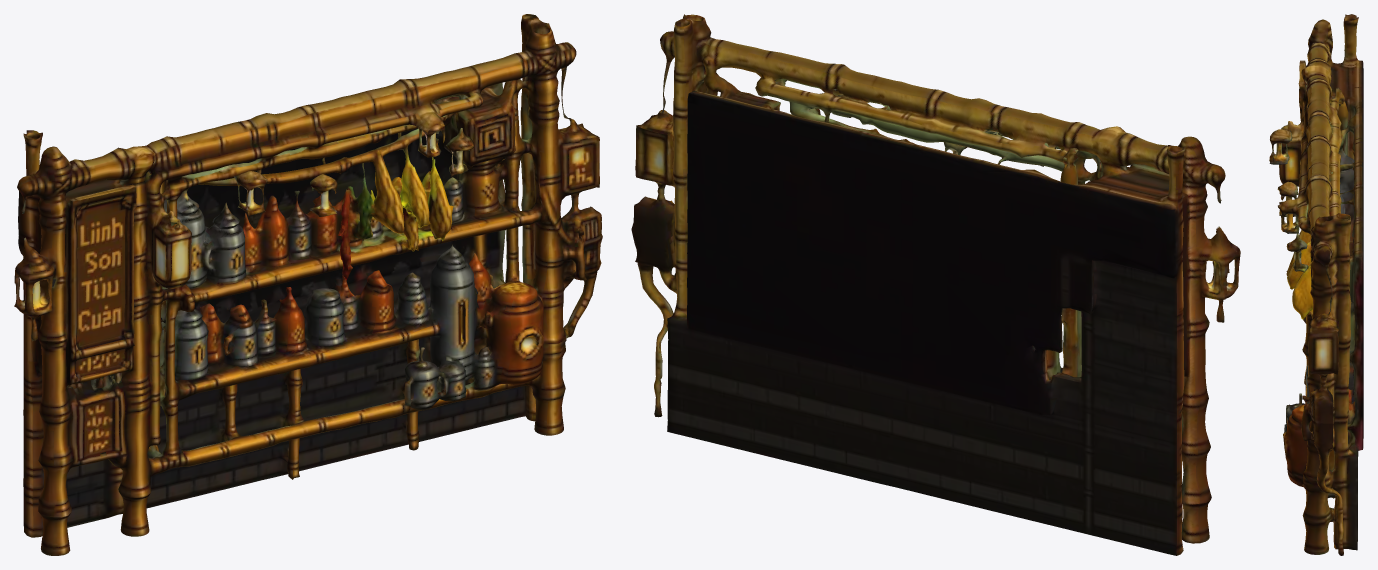
The model's file is Tavern_Linh_Son_Tu_Quan_Apot.glb.
The picture shows the model from 3 angles, left to right: view 1: azimuth 30°, elevation 25°; view 2: azimuth 150°, elevation 25°; view 3: azimuth 270°, elevation 25°; orthographic projection. The views are drawn at different scales.
Size of the model in its own units: 1.91 by 1.25 by 0.3205.
1 material, 1 textured.
